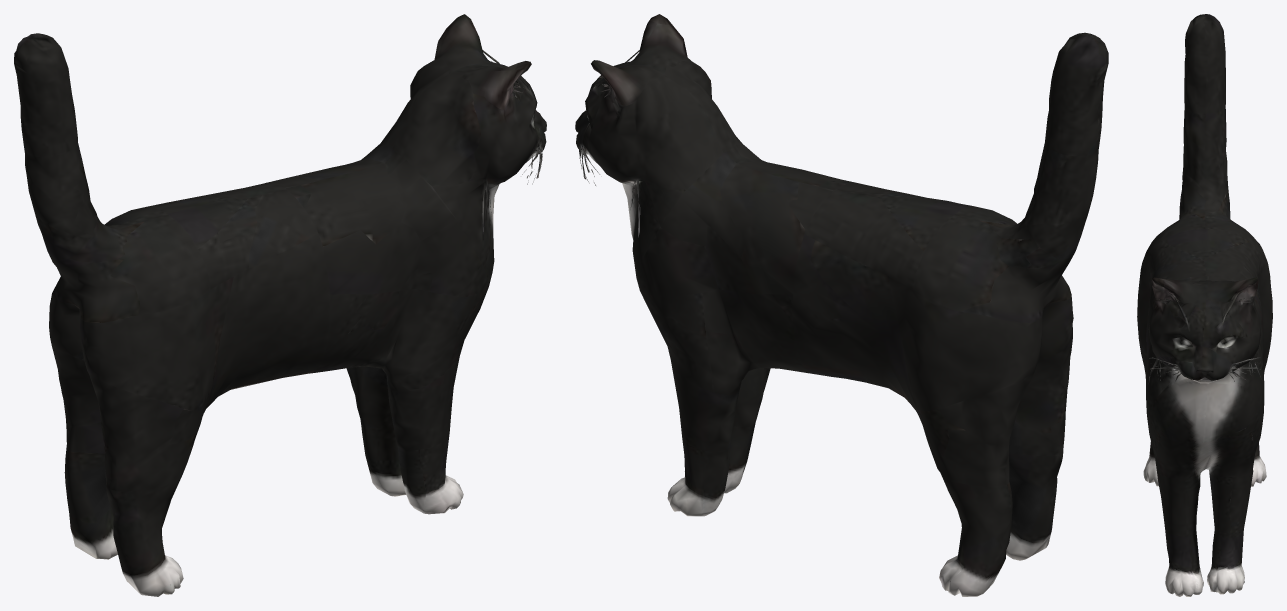
The model's file is MAXWELLCAT-lo.glb.
3 renders of one model, left to right at view 1: azimuth 30°, elevation 25°; view 2: azimuth 150°, elevation 25°; view 3: azimuth 270°, elevation 25°, orthographic. The views are drawn at different scales.
Visible parts, largest first — view 1: tripo_node_64595413-6830-49c2-9f21-5dadfc09b10c; view 2: tripo_node_64595413-6830-49c2-9f21-5dadfc09b10c; view 3: tripo_node_64595413-6830-49c2-9f21-5dadfc09b10c.
Part boxes in pixels (x1,y1,x2,y2): tripo_node_64595413-6830-49c2-9f21-5dadfc09b10c: (14,14,546,596); tripo_node_64595413-6830-49c2-9f21-5dadfc09b10c: (575,14,1108,596); tripo_node_64595413-6830-49c2-9f21-5dadfc09b10c: (1137,14,1272,596).
Bounding box in the file's own units: 0.9929 × 0.9995 × 0.2856.
1 material, 1 textured.
